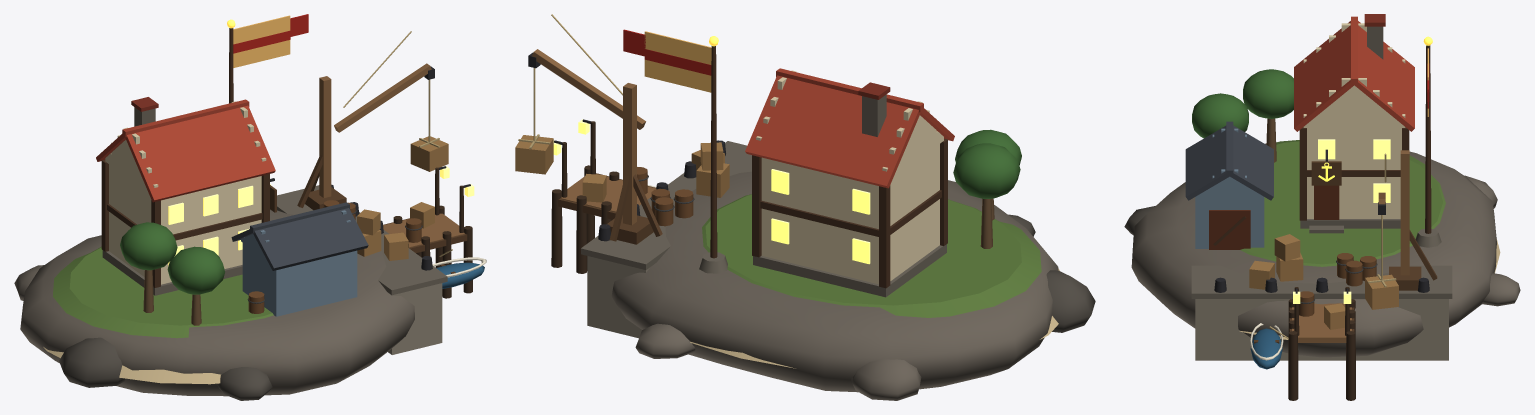
Rendered from harbour-port.glb.
3 renders of one model, left to right at view 1: azimuth 30°, elevation 25°; view 2: azimuth 150°, elevation 25°; view 3: azimuth 270°, elevation 25°, orthographic. The views are drawn at different scales.
Parts seen in each view (by area): view 1: Mesh_Rock, Mesh_Grass, Mesh_HouseRoofSlabN, Mesh_HouseWalls, Mesh_WarehouseWalls, Mesh_WarehouseRoofSlabN, Mesh_Boulder0, Mesh_QuayCoping, Mesh_Quay, Mesh_TreeACrown, Mesh_TreeBCrown, Mesh_FlagGold (+21 smaller); view 2: Mesh_Rock, Mesh_Grass, Mesh_HouseWalls, Mesh_HouseRoofSlabS, Mesh_QuayCoping, Mesh_TreeACrown, Mesh_Quay, Mesh_FlagGold, Mesh_Boulder1, Mesh_HouseBase, Mesh_Boulder0, Mesh_CraneMast (+22 smaller); view 3: Mesh_Rock, Mesh_Grass, Mesh_Quay, Mesh_HouseWalls, Mesh_QuayCoping, Mesh_HouseRoofSlabN, Mesh_HouseRoofSlabS, Mesh_WarehouseRoofSlabN, Mesh_WarehouseRoofSlabS, Mesh_TreeACrown, Mesh_WarehouseWalls, Mesh_TreeBCrown (+31 smaller).
Boxes of the visible parts, x1=… form: Mesh_Rock: x1=20, y1=209, x2=414, y2=396; Mesh_Grass: x1=53, y1=246, x2=273, y2=338; Mesh_HouseRoofSlabN: x1=125, y1=105, x2=275, y2=202; Mesh_HouseWalls: x1=109, y1=164, x2=261, y2=284; Mesh_WarehouseWalls: x1=242, y1=243, x2=357, y2=316; Mesh_WarehouseRoofSlabN: x1=253, y1=208, x2=368, y2=270; Mesh_Boulder0: x1=59, y1=337, x2=125, y2=387; Mesh_QuayCoping: x1=277, y1=185, x2=447, y2=295; Mesh_Quay: x1=388, y1=283, x2=442, y2=354; Mesh_TreeACrown: x1=120, y1=222, x2=177, y2=270; Mesh_TreeBCrown: x1=167, y1=246, x2=224, y2=294; Mesh_FlagGold: x1=233, y1=15, x2=290, y2=67; Mesh_Rock: x1=611, y1=171, x2=1058, y2=392; Mesh_Grass: x1=702, y1=194, x2=1041, y2=317; Mesh_HouseWalls: x1=761, y1=144, x2=939, y2=284; Mesh_HouseRoofSlabS: x1=745, y1=75, x2=920, y2=188; Mesh_QuayCoping: x1=581, y1=141, x2=751, y2=269; Mesh_TreeACrown: x1=953, y1=143, x2=1020, y2=198; Mesh_Quay: x1=587, y1=256, x2=649, y2=338; Mesh_FlagGold: x1=644, y1=31, x2=711, y2=92; Mesh_Boulder1: x1=851, y1=359, x2=921, y2=400; Mesh_HouseBase: x1=753, y1=244, x2=946, y2=297; Mesh_Boulder0: x1=1046, y1=270, x2=1095, y2=332; Mesh_CraneMast: x1=623, y1=83, x2=636, y2=225; Mesh_Rock: x1=1131, y1=151, x2=1496, y2=357; Mesh_Grass: x1=1240, y1=140, x2=1445, y2=266; Mesh_Quay: x1=1195, y1=299, x2=1448, y2=360; Mesh_HouseWalls: x1=1307, y1=128, x2=1401, y2=218; Mesh_QuayCoping: x1=1191, y1=265, x2=1452, y2=298; Mesh_HouseRoofSlabN: x1=1294, y1=21, x2=1354, y2=131; Mesh_HouseRoofSlabS: x1=1353, y1=21, x2=1414, y2=131; Mesh_WarehouseRoofSlabN: x1=1185, y1=125, x2=1229, y2=200; Mesh_WarehouseRoofSlabS: x1=1229, y1=125, x2=1273, y2=200; Mesh_TreeACrown: x1=1243, y1=69, x2=1293, y2=118; Mesh_WarehouseWalls: x1=1195, y1=196, x2=1264, y2=248; Mesh_TreeBCrown: x1=1192, y1=93, x2=1248, y2=138.
Bounding box in the file's own units: 22.58 × 13.15 × 17.17.
